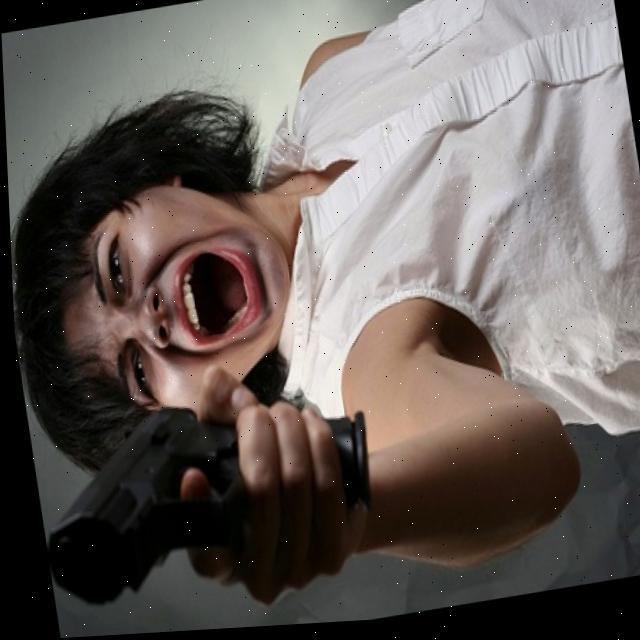pistol: (23, 391, 254, 614)
